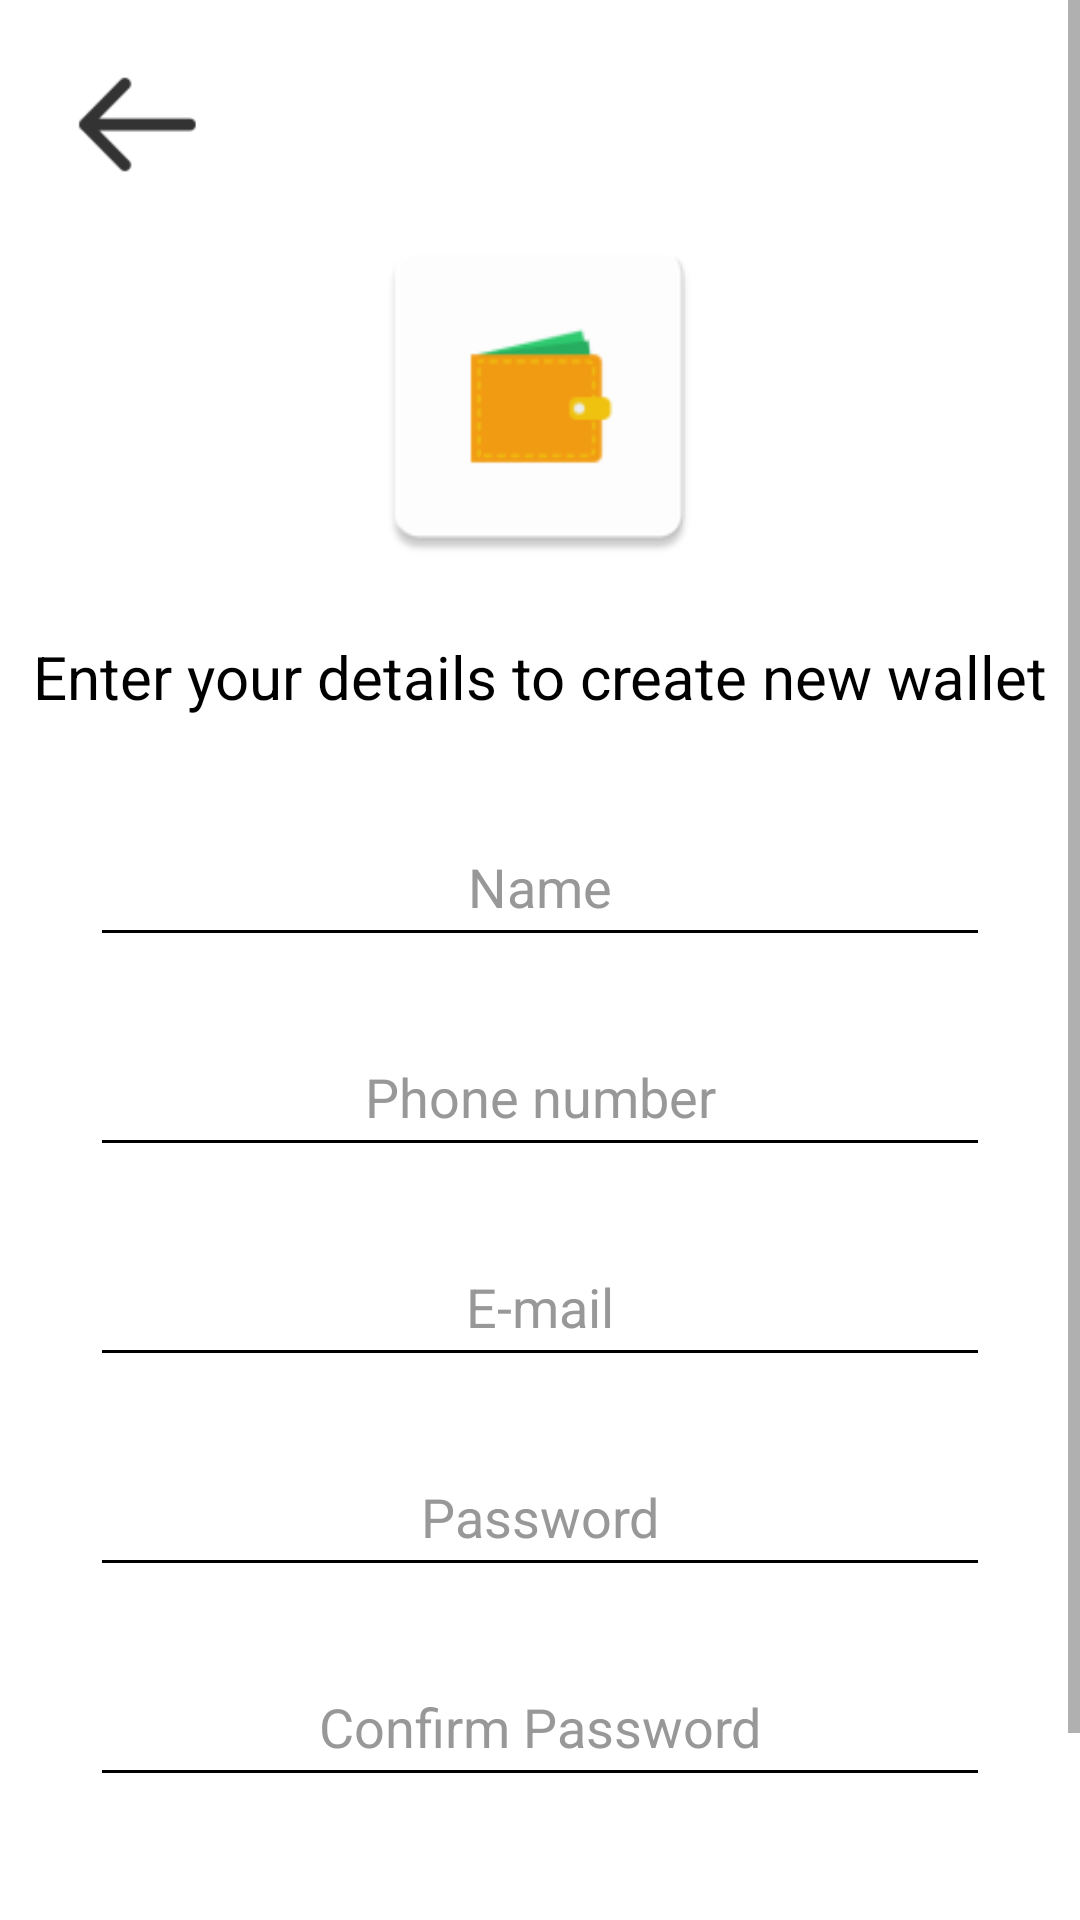

Icon click points for this 1080 x 1920 phone screenshot, format (x,y):
back arrow: (137,124)
